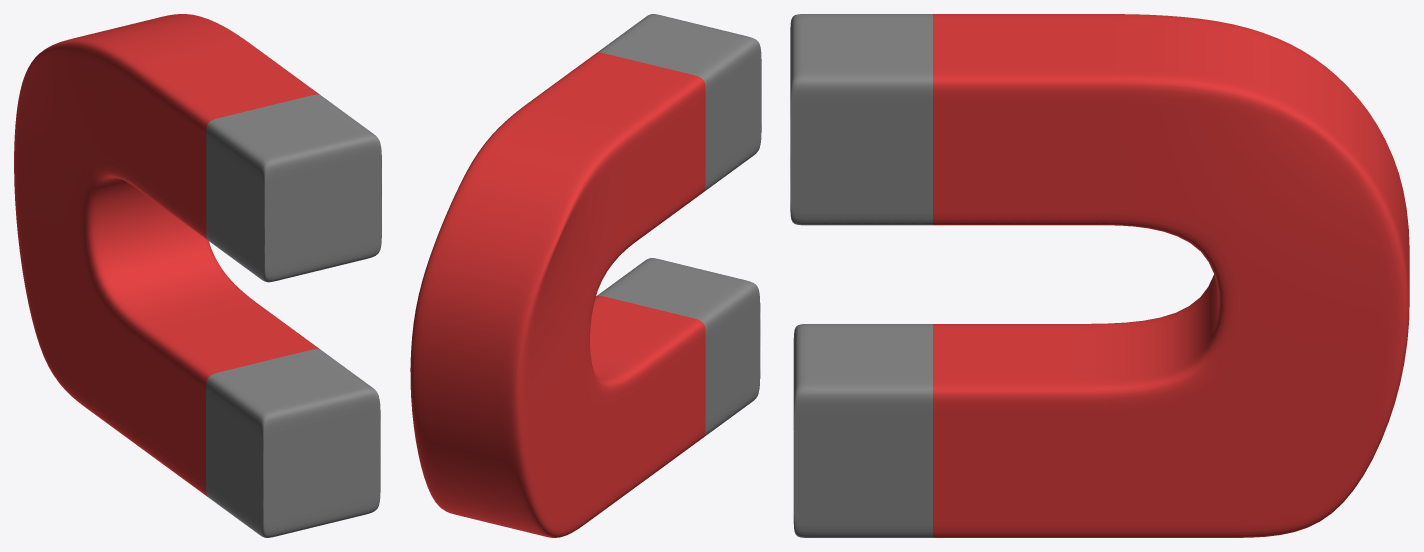
File: iman.fbx
3 views of the same model, side by side, from view 1: azimuth 30°, elevation 25°; view 2: azimuth 150°, elevation 25°; view 3: azimuth 270°, elevation 25° (orthographic). The views are drawn at different scales.
Visible parts, largest first — view 1: Cube; view 2: Cube; view 3: Cube.
Part boxes in pixels (<box>): Cube: <box>14,14,381,537</box>; Cube: <box>410,14,761,537</box>; Cube: <box>790,14,1409,537</box>.
Bounding box in the file's own units: 106 × 309 × 376.
